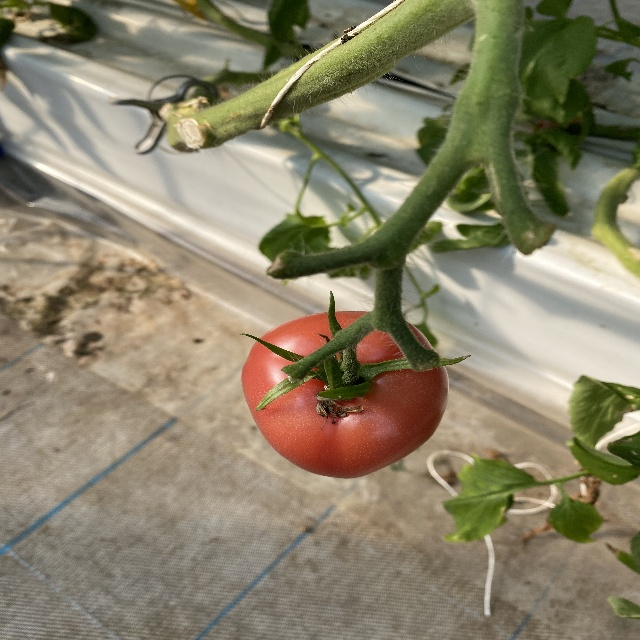b_fully_ripened: (240, 310, 449, 478)
